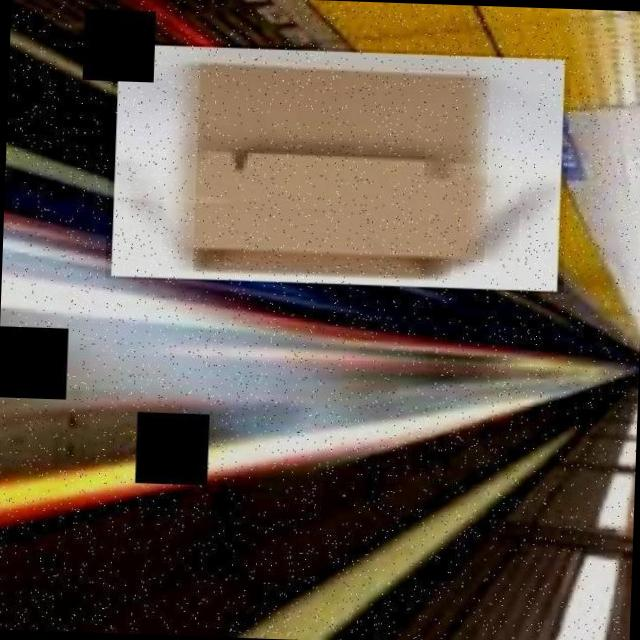box: (105, 39, 572, 294)
